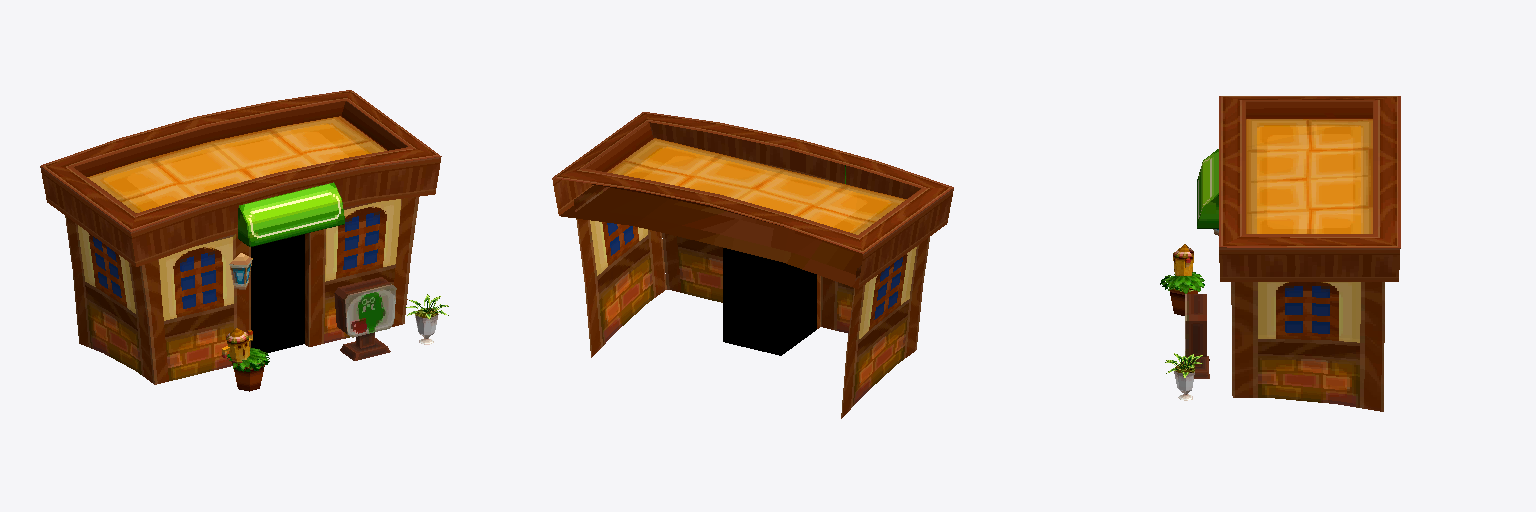
3 views of the same model, side by side, from view 1: azimuth 30°, elevation 25°; view 2: azimuth 150°, elevation 25°; view 3: azimuth 270°, elevation 25° (orthographic).
Size of the model in its own units: 163 by 95.41 by 110.
Materials: 1 (1 with a texture image).